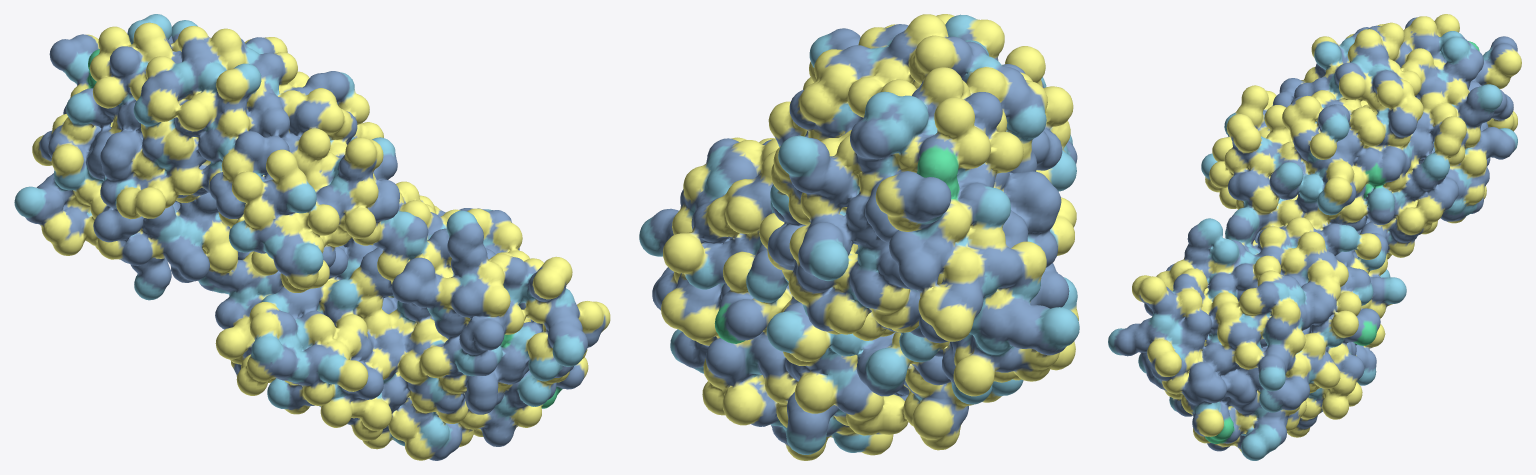
File: subsurf.gltf
3 renders of one model, left to right at view 1: azimuth 30°, elevation 25°; view 2: azimuth 150°, elevation 25°; view 3: azimuth 270°, elevation 25°, orthographic. The views are drawn at different scales.
Parts seen in each view (by area): view 1: geo1; view 2: geo1; view 3: geo1.
Boxes of the visible parts, left/top/right/bottom form: geo1: left=14, top=14, right=610, bottom=460; geo1: left=639, top=14, right=1079, bottom=460; geo1: left=1108, top=14, right=1521, bottom=460.
Size of the model in its own units: 63.15 by 55.79 by 59.88.
